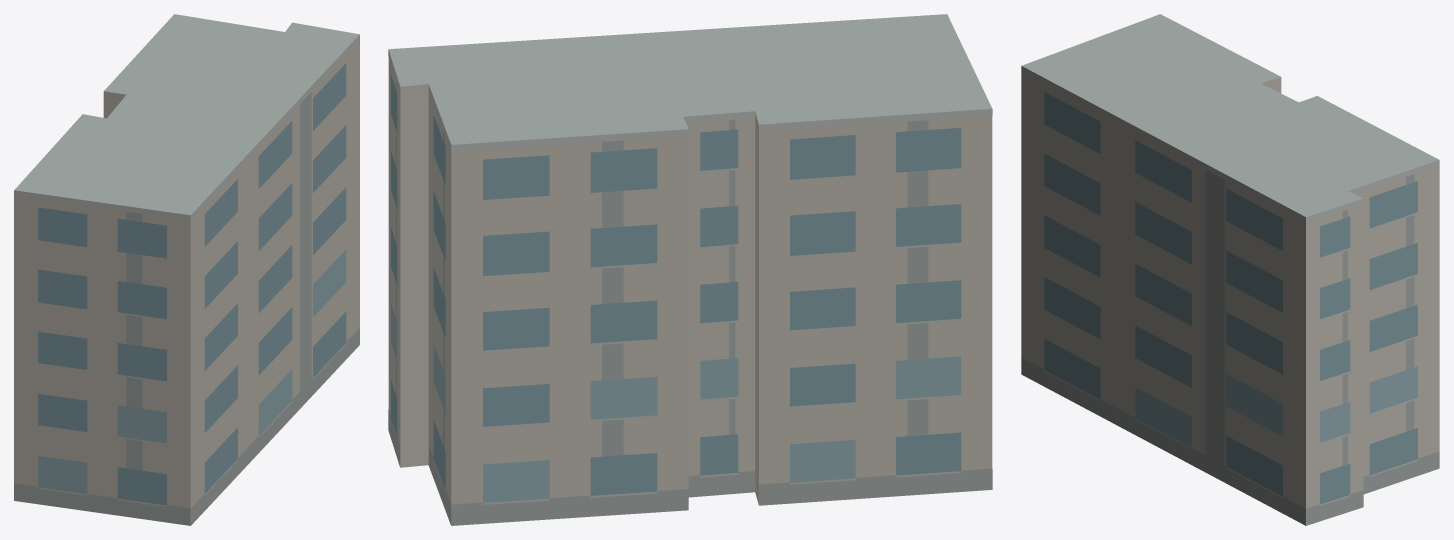
Rendered from survey-upis-32885692.glb.
3 renders of one model, left to right at view 1: azimuth 30°, elevation 25°; view 2: azimuth 150°, elevation 25°; view 3: azimuth 270°, elevation 25°, orthographic. The views are drawn at different scales.
Visible parts, largest first — view 1: survey-upis-32885692.tmp; view 2: survey-upis-32885692.tmp; view 3: survey-upis-32885692.tmp.
Part boxes in pixels (x1,y1,x2,y2): survey-upis-32885692.tmp: [14, 14, 359, 525]; survey-upis-32885692.tmp: [388, 14, 992, 525]; survey-upis-32885692.tmp: [1021, 14, 1439, 525].
Size of the model in its own units: 18.64 by 13.2 by 16.21.
